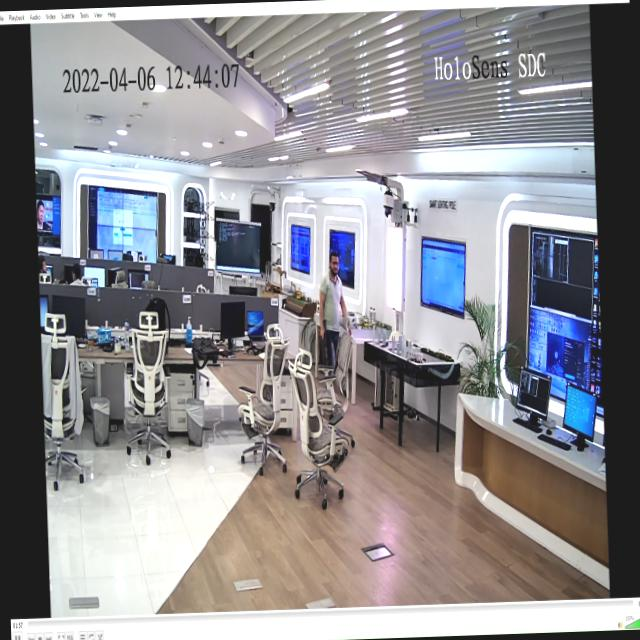long weapon: (318, 318, 328, 368)
